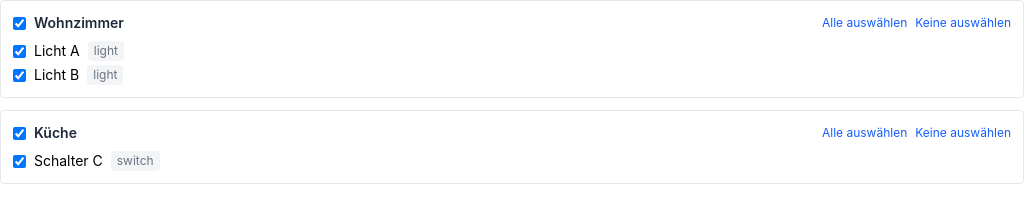
EntityCurationPanel › unchecking 'Ansicht behalten' unchecks the view and disables its entities
Click the checkbox labelled "Küche".
click(20, 133)  # box [13,126,26,140]
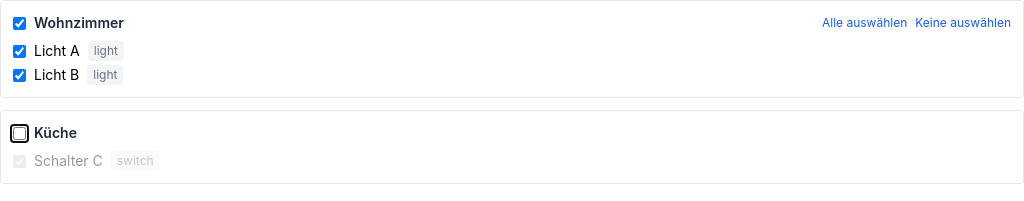
Check: the checkbox labelled "Küche" is not checked, box [13,126,26,140]
